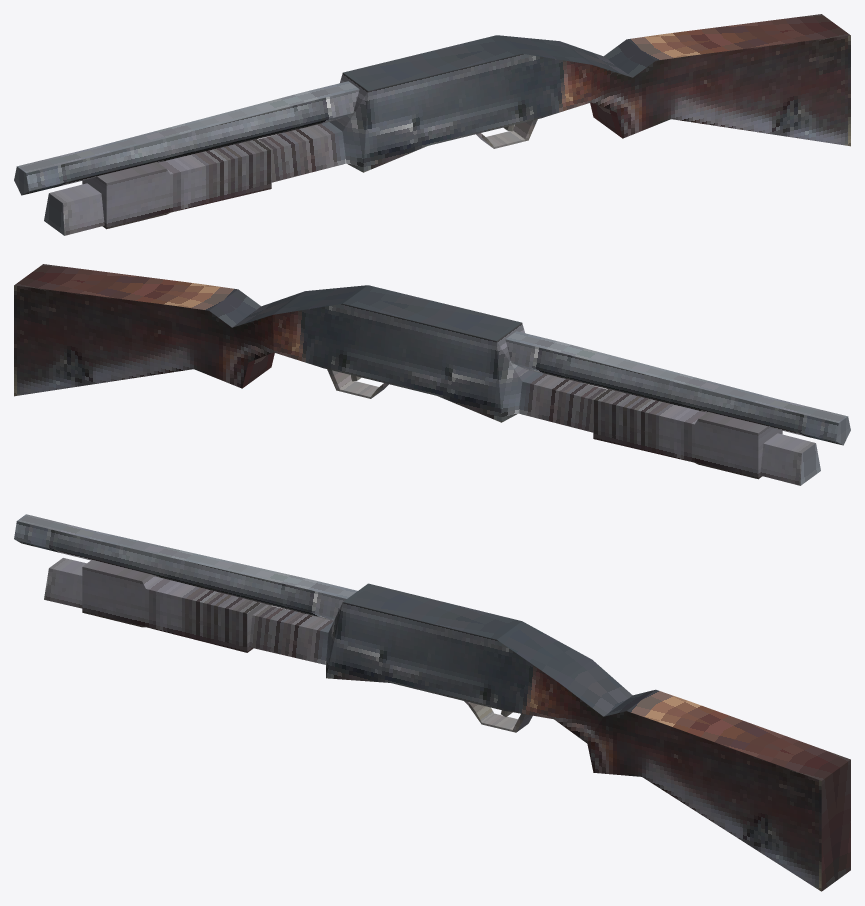
File: shotgun.glb
3 renders of one model, top to bottom at view 1: azimuth 30°, elevation 25°; view 2: azimuth 150°, elevation 25°; view 3: azimuth 330°, elevation 25°, orthographic.
Visible parts, largest first — view 1: Cube; view 2: Cube; view 3: Cube.
Part boxes in pixels (bbox=[...]): Cube: bbox=[14, 14, 850, 235]; Cube: bbox=[14, 264, 850, 485]; Cube: bbox=[14, 514, 850, 891].
Bounding box in the file's own units: 4.66 × 0.9352 × 0.3707.
Materials: 1 (1 with a texture image).
